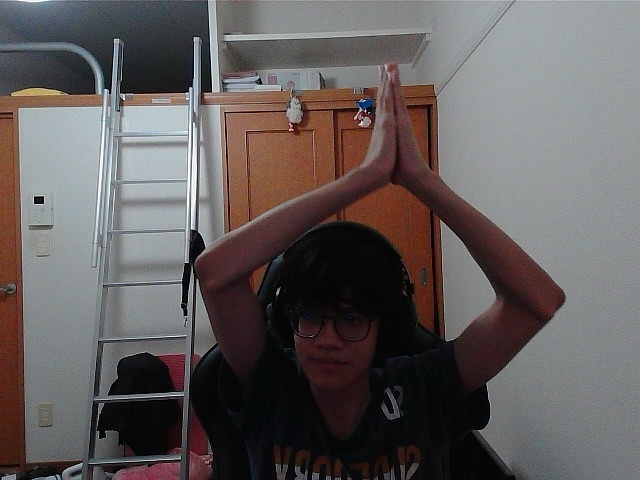pray: (383, 78, 387, 165)
